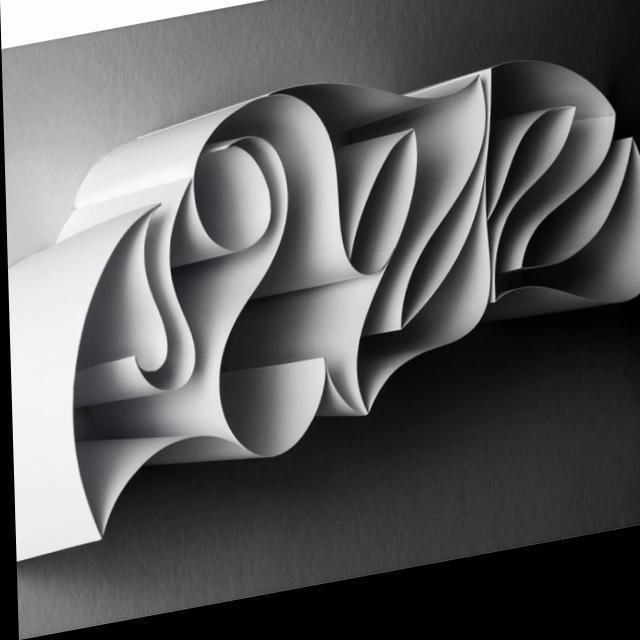-: (3, 29, 640, 574)
